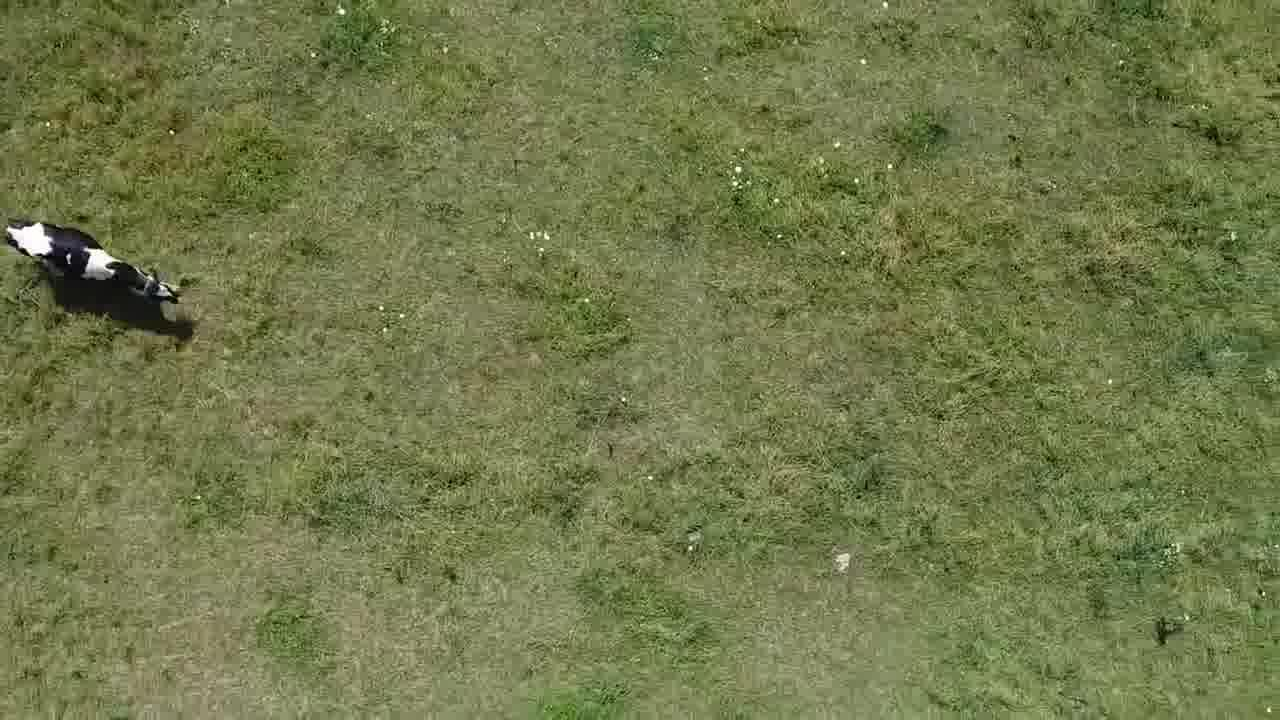cow: (0, 213, 190, 316)
